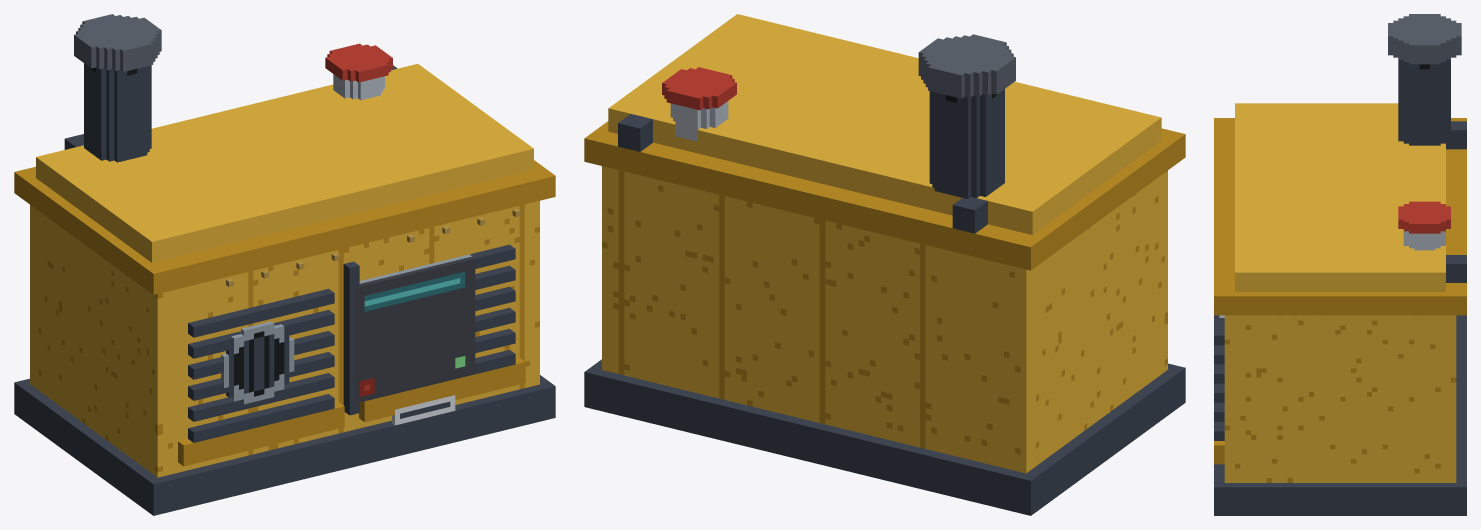
Rendered from generator.obj.
3 views of the same model, side by side, from view 1: azimuth 30°, elevation 25°; view 2: azimuth 150°, elevation 25°; view 3: azimuth 270°, elevation 25° (orthographic). The views are drawn at different scales.
Visible parts, largest first — view 1: generator; view 2: generator; view 3: generator.
Boxes of the visible parts, x1,y1,x2,y2 form: generator: (14, 14, 555, 515); generator: (584, 14, 1185, 515); generator: (1214, 14, 1466, 515).
Size of the model in its own units: 2.5 by 2.25 by 1.5.
